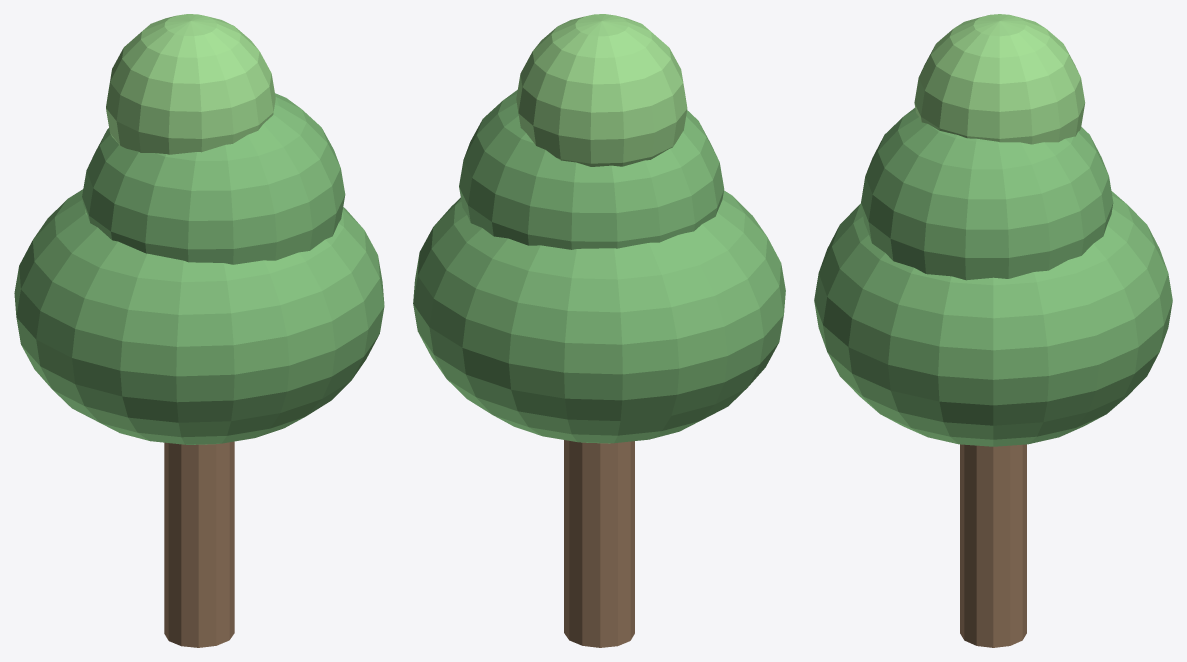
The model's file is prop_forest_tree.glb.
The picture shows the model from 3 angles, left to right: view 1: azimuth 30°, elevation 25°; view 2: azimuth 150°, elevation 25°; view 3: azimuth 270°, elevation 25°; orthographic projection.
Parts seen in each view (by area): view 1: Tree_Canopy_Lower, Tree_Canopy_Mid, Tree_Canopy_Top, Tree_Trunk; view 2: Tree_Canopy_Lower, Tree_Canopy_Mid, Tree_Canopy_Top, Tree_Trunk; view 3: Tree_Canopy_Lower, Tree_Canopy_Mid, Tree_Canopy_Top, Tree_Trunk.
Boxes of the visible parts, box(x1,y1,x2,y2) form: Tree_Canopy_Lower: box(14, 189, 384, 444); Tree_Canopy_Mid: box(82, 93, 345, 264); Tree_Canopy_Top: box(106, 14, 275, 154); Tree_Trunk: box(164, 441, 234, 647); Tree_Canopy_Lower: box(413, 190, 785, 443); Tree_Canopy_Mid: box(459, 90, 724, 249); Tree_Canopy_Top: box(516, 14, 687, 166); Tree_Trunk: box(564, 440, 634, 647); Tree_Canopy_Lower: box(814, 191, 1172, 446); Tree_Canopy_Mid: box(861, 108, 1113, 280); Tree_Canopy_Top: box(914, 14, 1085, 144); Tree_Trunk: box(960, 444, 1026, 647).
Bounding box in the file's own units: 2.97 × 5.31 × 2.84.
